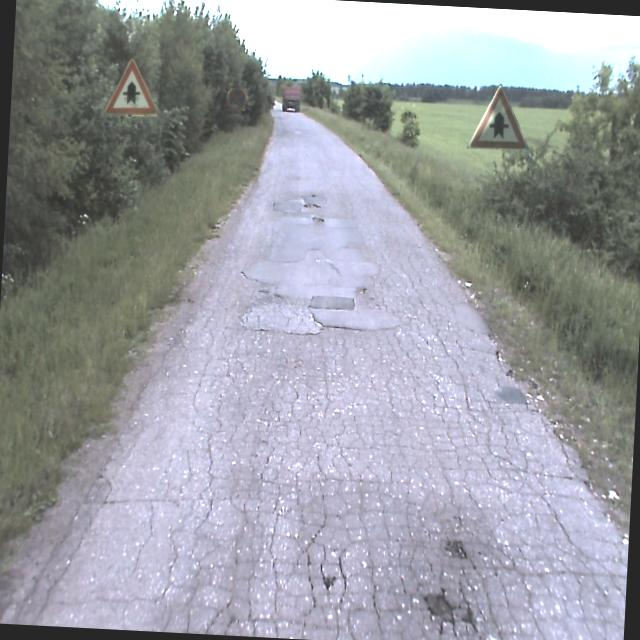road: (18, 101, 628, 640)
